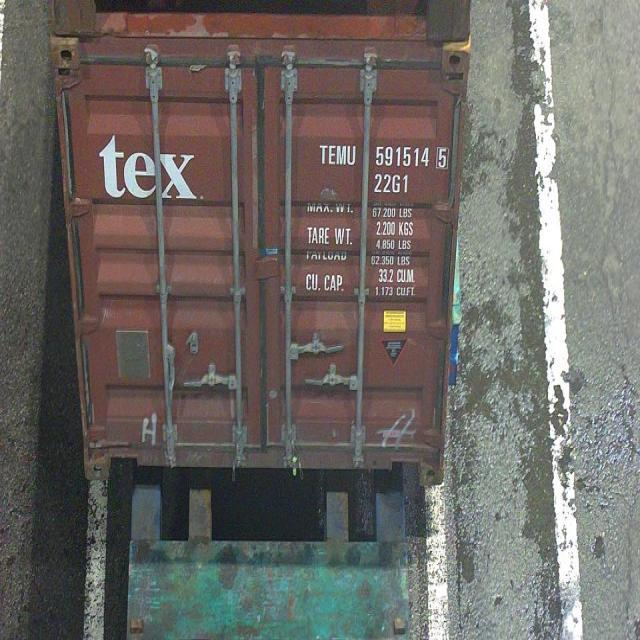ISO: (376, 172, 408, 194)
container_number: (318, 133, 449, 172)
